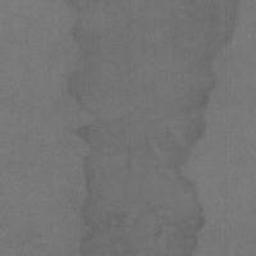Water spot: (65, 0, 243, 256)
